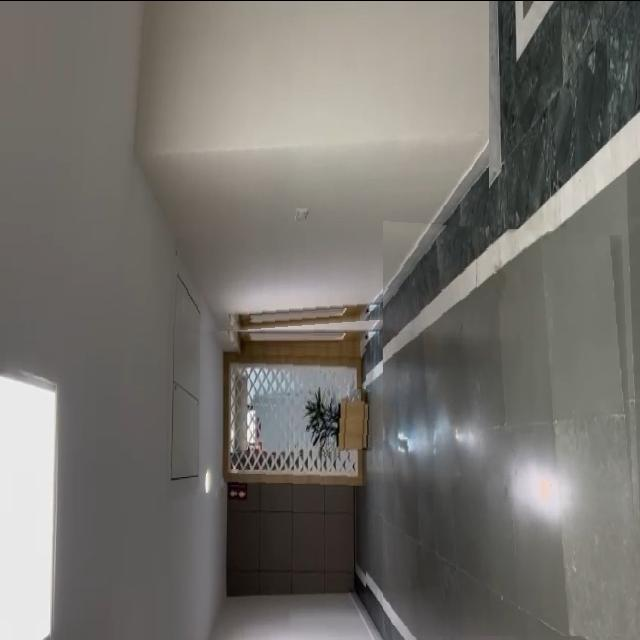door: (225, 342, 366, 586)
floor: (383, 219, 640, 635)
furniture: (296, 385, 372, 453)
wall: (11, 0, 489, 346)
